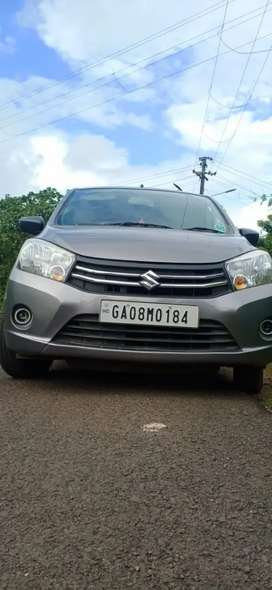GA08M0184: (99, 299, 200, 328)
